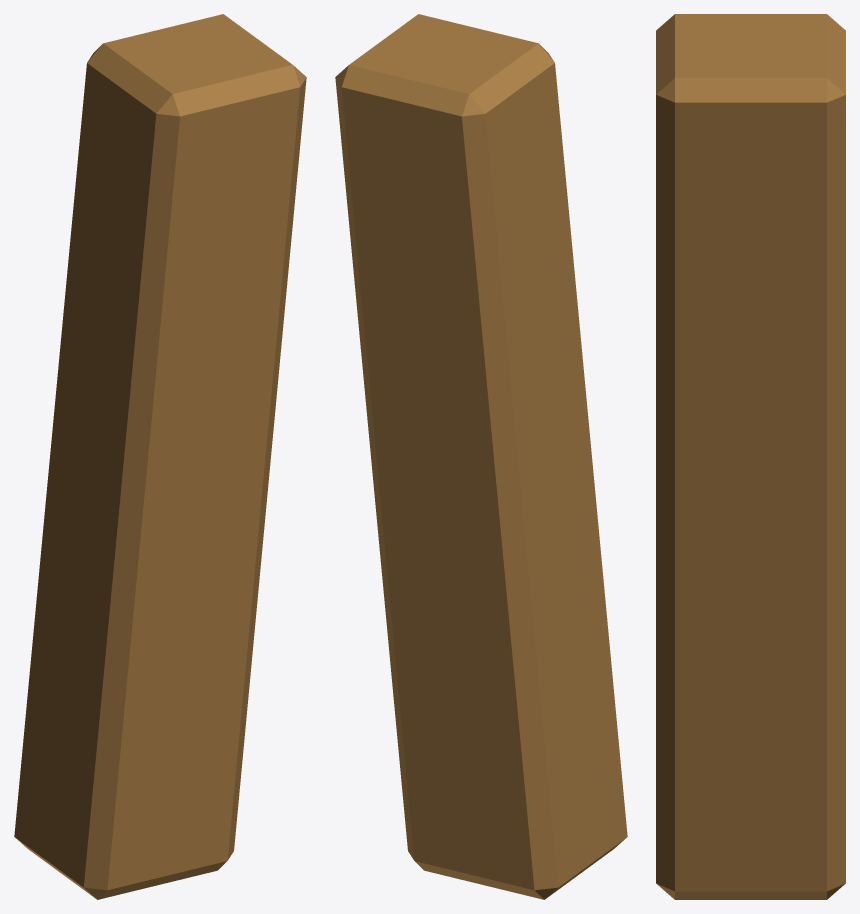
The model's file is house_03.FBX.
The picture shows the model from 3 angles, left to right: view 1: azimuth 30°, elevation 25°; view 2: azimuth 150°, elevation 25°; view 3: azimuth 270°, elevation 25°; orthographic projection. The views are drawn at different scales.
Visible parts, largest first — view 1: Box006; view 2: Box006; view 3: Box006.
Boxes of the visible parts, x1=… form: Box006: x1=14, y1=14, x2=306, y2=899; Box006: x1=335, y1=14, x2=627, y2=899; Box006: x1=656, y1=14, x2=845, y2=899.
Bounding box in the file's own units: 15.59 × 52.62 × 10.51.
1 material, 1 textured.
